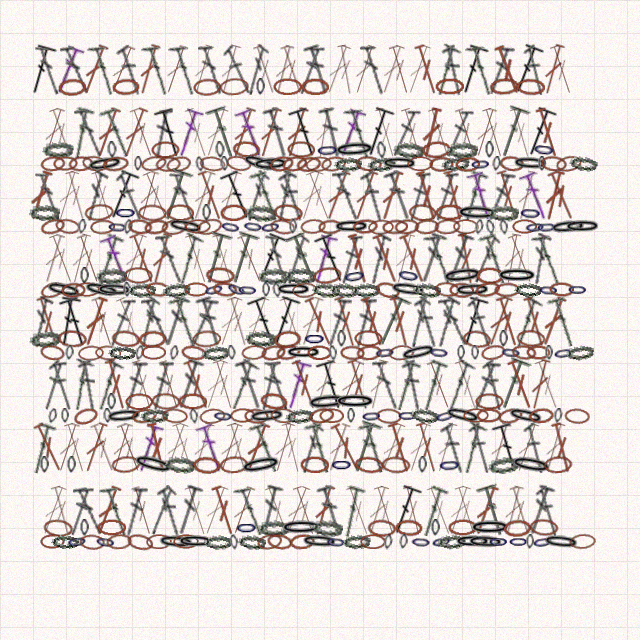chain: (131, 451, 175, 478), (239, 453, 283, 477), (509, 453, 553, 477), (240, 151, 279, 176), (441, 265, 484, 286), (399, 341, 438, 364), (443, 404, 482, 427), (306, 392, 349, 412), (44, 279, 83, 301), (82, 279, 121, 301), (506, 405, 545, 427), (166, 216, 205, 237), (333, 140, 376, 159), (86, 154, 124, 174), (456, 204, 498, 222), (487, 454, 520, 476), (389, 280, 427, 299), (496, 267, 538, 284), (334, 393, 376, 410), (280, 519, 322, 536), (469, 519, 511, 536), (549, 218, 587, 236), (105, 407, 143, 425), (248, 407, 286, 425), (157, 533, 195, 551), (542, 533, 580, 551), (312, 265, 343, 286), (29, 329, 61, 349), (259, 391, 289, 412), (512, 155, 549, 172), (301, 533, 338, 550), (39, 279, 67, 301), (72, 405, 100, 427), (195, 216, 224, 237), (42, 140, 74, 159), (164, 455, 196, 474), (111, 329, 141, 349), (462, 329, 492, 349), (354, 455, 384, 475), (43, 518, 73, 538), (252, 156, 289, 172), (96, 282, 133, 298), (454, 282, 491, 298), (467, 534, 504, 550), (39, 216, 67, 237), (273, 329, 302, 349), (393, 141, 425, 159), (245, 204, 277, 222), (219, 77, 249, 96), (489, 77, 519, 96), (421, 140, 451, 159), (84, 203, 114, 222), (273, 203, 303, 222), (205, 266, 235, 285), (57, 329, 87, 348), (516, 329, 546, 348), (565, 343, 595, 362), (151, 392, 181, 411), (111, 455, 141, 474), (219, 455, 249, 474), (543, 455, 573, 474), (529, 518, 559, 537), (374, 280, 402, 300), (126, 532, 154, 552), (447, 141, 478, 159), (488, 204, 519, 222), (96, 267, 127, 285), (258, 267, 289, 285), (258, 519, 289, 537), (312, 519, 343, 537), (381, 156, 418, 171), (333, 219, 370, 234), (564, 219, 601, 234), (275, 282, 312, 297), (285, 345, 322, 360), (177, 534, 214, 549), (454, 534, 491, 549), (232, 140, 261, 159), (441, 154, 470, 173), (408, 203, 437, 222), (165, 154, 192, 174), (497, 406, 524, 426), (381, 456, 411, 474), (367, 519, 397, 537), (81, 154, 109, 173), (140, 154, 168, 173), (555, 154, 583, 173), (29, 204, 60, 221), (285, 267, 316, 284), (245, 330, 276, 347), (396, 265, 421, 286), (224, 279, 249, 300), (516, 78, 545, 96), (367, 155, 396, 173), (138, 204, 167, 222), (162, 281, 191, 299), (138, 330, 167, 348), (192, 330, 221, 348), (201, 344, 230, 362), (285, 407, 314, 425), (192, 456, 221, 474), (225, 154, 252, 173), (268, 154, 295, 173), (281, 154, 308, 173), (54, 217, 81, 236), (474, 280, 501, 299), (39, 343, 66, 362), (260, 343, 287, 362), (275, 343, 302, 362), (480, 343, 507, 362), (308, 406, 335, 425), (256, 532, 283, 551), (266, 532, 293, 551), (58, 78, 86, 96), (112, 78, 140, 96), (193, 78, 221, 96), (395, 519, 423, 537), (503, 519, 531, 537), (342, 266, 367, 286), (273, 78, 302, 95), (435, 78, 464, 95), (151, 141, 180, 158), (569, 155, 598, 172), (435, 204, 464, 221), (124, 267, 153, 284), (354, 330, 383, 347), (178, 393, 207, 410), (475, 393, 504, 410), (140, 407, 169, 424), (410, 407, 439, 424), (300, 456, 329, 473), (97, 519, 126, 536), (448, 519, 477, 536), (342, 533, 371, 550), (437, 533, 466, 550), (102, 155, 129, 173), (199, 155, 226, 173), (305, 155, 332, 173), (320, 155, 347, 173), (143, 218, 170, 236), (269, 218, 296, 236), (180, 344, 207, 362), (199, 407, 226, 425), (433, 406, 457, 426), (301, 78, 329, 95), (287, 141, 315, 158), (166, 204, 194, 221), (220, 204, 248, 221), (476, 267, 504, 284), (125, 393, 153, 410), (296, 155, 322, 173), (161, 218, 187, 236), (131, 407, 157, 425), (355, 155, 382, 172), (540, 155, 567, 172), (434, 218, 461, 235), (388, 344, 415, 361), (569, 533, 596, 550), (532, 140, 556, 159), (202, 280, 226, 299), (334, 156, 362, 172), (128, 282, 156, 298), (312, 282, 340, 298), (330, 282, 358, 298), (352, 282, 380, 298), (413, 282, 441, 298), (204, 534, 232, 550), (238, 534, 266, 550), (40, 155, 66, 172), (68, 155, 94, 172), (499, 155, 525, 172), (127, 218, 153, 235), (300, 218, 326, 235), (352, 218, 378, 235), (394, 218, 420, 235), (414, 218, 440, 235), (145, 281, 171, 298), (212, 281, 238, 298), (434, 281, 460, 298), (241, 344, 267, 361), (356, 344, 382, 361), (511, 344, 537, 361), (270, 407, 296, 424), (528, 407, 554, 424), (106, 533, 132, 550), (289, 533, 315, 550), (430, 532, 453, 551), (514, 282, 542, 297), (108, 345, 136, 360), (51, 534, 79, 549), (155, 156, 181, 172), (368, 219, 394, 235), (382, 219, 408, 235), (292, 282, 318, 298), (494, 282, 520, 298), (78, 345, 104, 361), (95, 345, 121, 361), (162, 408, 188, 424), (376, 408, 402, 424), (564, 408, 590, 424), (79, 534, 105, 550), (316, 141, 339, 159), (519, 204, 542, 222), (219, 218, 242, 236), (259, 218, 282, 236), (552, 344, 575, 362), (438, 456, 461, 474), (94, 533, 117, 551), (531, 533, 554, 551), (429, 156, 454, 172), (455, 156, 480, 172), (90, 219, 115, 235), (318, 219, 343, 235), (61, 282, 86, 298), (449, 282, 474, 298), (340, 345, 365, 361), (244, 408, 269, 424), (114, 204, 137, 221), (303, 330, 326, 347), (330, 456, 353, 473), (235, 519, 258, 536), (407, 156, 433, 171), (185, 219, 211, 234), (453, 219, 479, 234), (74, 282, 100, 297), (463, 408, 489, 423), (146, 534, 172, 549), (173, 534, 199, 549), (360, 534, 386, 549), (53, 156, 78, 171), (512, 219, 537, 234), (184, 282, 209, 297), (549, 282, 574, 297), (141, 345, 166, 360), (307, 345, 332, 360), (526, 345, 551, 360), (230, 408, 255, 423), (319, 408, 344, 423), (476, 408, 501, 423), (40, 534, 65, 549), (242, 218, 264, 235), (374, 344, 396, 361), (428, 344, 450, 361), (500, 344, 522, 361), (66, 533, 88, 550), (524, 219, 546, 235), (212, 408, 234, 424), (325, 534, 347, 550), (410, 534, 432, 550), (470, 156, 491, 172), (107, 219, 128, 235), (536, 219, 557, 235), (237, 282, 258, 298), (538, 282, 559, 298), (361, 408, 382, 424), (567, 282, 588, 297), (397, 408, 418, 423), (488, 534, 509, 549), (508, 534, 529, 549), (376, 141, 387, 159), (485, 219, 496, 235), (134, 345, 145, 361), (47, 408, 58, 424), (107, 141, 117, 158), (215, 141, 225, 158), (195, 156, 205, 172), (123, 219, 133, 235), (474, 219, 484, 235), (499, 219, 509, 235), (272, 282, 282, 298), (169, 345, 179, 361), (328, 345, 338, 361), (189, 408, 199, 424), (229, 534, 239, 550), (383, 534, 393, 550), (256, 78, 265, 95), (485, 141, 494, 158), (202, 204, 211, 221), (80, 267, 89, 284), (337, 330, 346, 347), (499, 330, 508, 347), (107, 393, 116, 410), (40, 456, 49, 473), (67, 456, 76, 473), (418, 456, 427, 473), (80, 519, 89, 536), (431, 519, 440, 536), (77, 219, 87, 234), (553, 408, 563, 423), (220, 156, 229, 171), (492, 156, 501, 171), (65, 345, 74, 360), (227, 345, 236, 360), (103, 408, 112, 423), (399, 534, 408, 549), (134, 156, 142, 171), (538, 156, 546, 171), (289, 219, 297, 234), (123, 282, 131, 297), (262, 282, 270, 297), (457, 345, 465, 360), (471, 345, 479, 360), (545, 345, 553, 360), (61, 408, 69, 423), (347, 408, 355, 423), (526, 534, 534, 549)
double: (372, 294, 412, 349), (285, 231, 324, 286), (103, 168, 141, 223), (219, 168, 257, 223), (251, 231, 289, 286), (313, 231, 351, 286), (494, 357, 532, 412), (508, 42, 545, 97), (205, 105, 242, 160), (494, 105, 531, 160), (521, 105, 558, 160), (157, 168, 194, 223), (246, 294, 283, 349), (327, 421, 365, 474), (224, 358, 261, 412), (287, 105, 323, 160), (360, 105, 396, 160), (266, 294, 302, 349), (347, 420, 383, 475), (387, 483, 423, 538), (30, 421, 67, 474), (441, 358, 477, 412), (225, 231, 260, 286), (476, 483, 511, 538), (301, 295, 337, 348), (455, 43, 490, 97), (98, 106, 133, 160), (90, 232, 125, 286), (58, 295, 93, 349), (509, 295, 544, 349), (247, 421, 282, 475), (233, 484, 268, 538), (199, 231, 233, 286), (139, 169, 174, 222), (544, 169, 579, 222), (233, 232, 268, 285), (112, 295, 147, 348), (24, 43, 58, 97), (153, 106, 187, 160), (248, 169, 282, 223), (531, 232, 565, 286), (456, 295, 490, 349), (91, 358, 125, 412), (315, 358, 349, 412), (388, 358, 422, 412), (415, 358, 449, 412), (491, 421, 525, 475), (415, 484, 449, 538), (51, 43, 85, 96), (105, 43, 139, 96), (491, 43, 525, 96), (302, 169, 336, 222), (518, 169, 552, 222), (45, 232, 79, 285), (99, 232, 133, 285), (369, 232, 403, 285), (396, 232, 430, 285), (504, 232, 538, 285), (180, 358, 214, 411), (334, 358, 368, 411), (86, 421, 120, 474), (375, 421, 409, 474), (261, 484, 295, 537), (280, 484, 314, 537), (423, 484, 457, 537), (456, 169, 489, 223), (172, 232, 205, 286), (423, 232, 456, 286), (477, 232, 510, 286), (167, 295, 200, 349), (99, 484, 132, 538), (78, 43, 111, 96), (321, 43, 354, 96), (402, 43, 435, 96), (45, 106, 78, 159), (91, 106, 124, 159), (118, 106, 151, 159), (126, 106, 159, 159), (234, 106, 267, 159), (334, 106, 367, 159), (194, 169, 227, 222), (321, 169, 354, 222), (383, 169, 416, 222), (118, 232, 151, 285), (126, 232, 159, 285), (483, 295, 516, 348), (537, 295, 570, 348), (234, 358, 267, 411), (288, 358, 321, 411), (423, 358, 456, 411), (504, 358, 537, 411), (531, 358, 564, 411), (113, 421, 146, 474), (159, 421, 192, 474), (240, 421, 273, 474), (37, 484, 70, 537), (91, 484, 124, 537), (199, 484, 232, 537), (342, 484, 375, 537), (221, 44, 255, 95), (87, 43, 119, 97), (141, 43, 173, 97), (168, 43, 200, 97), (430, 43, 462, 97), (465, 43, 497, 97), (343, 106, 375, 160), (546, 295, 578, 349), (25, 421, 57, 475), (160, 43, 192, 96), (249, 43, 281, 96), (276, 43, 308, 96), (376, 43, 408, 96), (546, 43, 578, 96), (181, 106, 213, 159), (200, 106, 232, 159), (227, 106, 259, 159), (424, 106, 456, 159), (187, 169, 219, 222), (295, 169, 327, 222), (349, 169, 381, 222), (73, 232, 105, 285), (181, 232, 213, 285), (416, 232, 448, 285), (443, 232, 475, 285), (79, 295, 111, 348), (87, 295, 119, 348), (214, 295, 246, 348), (241, 295, 273, 348), (276, 295, 308, 348), (295, 295, 327, 348), (173, 358, 205, 411), (200, 358, 232, 411), (451, 358, 483, 411), (52, 421, 84, 474), (79, 421, 111, 474), (168, 421, 200, 474), (195, 421, 227, 474), (214, 421, 246, 474), (322, 421, 354, 474), (403, 421, 435, 474), (511, 421, 543, 474), (227, 484, 259, 537), (289, 484, 321, 537), (443, 484, 475, 537), (470, 484, 502, 537), (524, 484, 556, 537), (469, 233, 502, 284), (303, 421, 334, 475), (357, 421, 388, 475), (457, 421, 488, 475), (484, 170, 516, 222), (187, 296, 219, 348), (303, 43, 334, 96), (349, 43, 380, 96), (411, 43, 442, 96), (38, 106, 69, 159), (173, 106, 204, 159), (254, 106, 285, 159), (262, 106, 293, 159), (281, 106, 312, 159), (397, 106, 428, 159), (451, 106, 482, 159), (470, 106, 501, 159), (478, 106, 509, 159), (532, 106, 563, 159), (25, 169, 56, 222), (52, 169, 83, 222), (87, 169, 118, 222), (214, 169, 245, 222), (376, 169, 407, 222), (38, 232, 69, 285), (208, 232, 239, 285), (33, 295, 64, 348), (160, 295, 191, 348), (195, 295, 226, 348), (357, 295, 388, 348), (492, 295, 523, 348), (60, 421, 91, 474), (106, 421, 137, 474), (133, 421, 164, 474), (187, 421, 218, 474), (384, 421, 415, 474), (484, 421, 515, 474), (127, 484, 158, 537), (173, 484, 204, 537), (181, 484, 212, 537), (208, 484, 239, 537), (316, 484, 347, 537), (362, 484, 393, 537), (370, 484, 401, 537), (451, 484, 482, 537), (505, 484, 536, 537), (389, 107, 421, 158), (114, 170, 146, 221), (146, 485, 178, 536), (336, 484, 366, 538), (60, 44, 91, 96), (443, 107, 474, 159), (141, 296, 172, 348), (438, 296, 469, 348), (470, 359, 501, 411), (73, 485, 104, 537), (134, 43, 164, 96), (188, 43, 218, 96), (385, 43, 415, 96), (371, 106, 401, 159), (506, 106, 536, 159), (61, 169, 91, 222), (412, 169, 442, 222), (466, 169, 496, 222), (493, 169, 523, 222), (223, 295, 253, 348), (331, 295, 361, 348), (520, 295, 550, 348), (101, 358, 131, 411), (128, 358, 158, 411), (155, 358, 185, 411), (209, 358, 239, 411), (282, 358, 312, 411), (309, 358, 339, 411), (344, 358, 374, 411), (223, 421, 253, 474), (269, 421, 299, 474), (412, 421, 442, 474), (431, 421, 461, 474), (539, 421, 569, 474), (115, 44, 145, 96), (485, 44, 515, 96), (74, 107, 104, 159), (277, 170, 307, 222), (431, 296, 461, 348), (215, 43, 244, 96), (269, 43, 298, 96), (539, 43, 568, 96), (66, 106, 95, 159), (134, 169, 163, 222), (512, 169, 541, 222), (66, 232, 95, 285), (147, 232, 176, 285), (309, 232, 338, 285), (344, 232, 373, 285), (390, 232, 419, 285), (47, 484, 76, 537), (309, 484, 338, 537), (296, 44, 325, 96), (80, 170, 109, 222), (169, 170, 198, 222), (242, 170, 271, 222), (155, 233, 184, 285), (282, 233, 311, 285), (107, 296, 136, 348), (466, 296, 495, 348), (47, 359, 76, 411), (439, 422, 468, 474), (318, 106, 346, 159), (440, 169, 468, 222), (540, 169, 568, 222), (54, 295, 82, 348), (386, 295, 414, 348), (67, 358, 95, 411), (364, 358, 392, 411), (526, 358, 554, 411), (143, 421, 171, 474), (278, 421, 306, 474), (548, 421, 576, 474), (256, 484, 284, 537), (399, 484, 427, 537), (499, 484, 527, 537), (35, 170, 63, 222), (332, 170, 360, 222), (359, 170, 387, 222), (364, 233, 392, 285), (324, 296, 352, 348), (413, 296, 441, 348), (372, 359, 400, 411), (297, 422, 325, 474), (156, 485, 184, 537), (534, 485, 562, 537), (418, 106, 445, 159), (35, 44, 62, 96), (243, 44, 270, 96), (432, 170, 459, 222), (27, 296, 54, 348), (121, 359, 148, 411), (264, 359, 291, 411), (467, 422, 494, 474), (67, 485, 94, 537), (198, 44, 224, 96), (360, 44, 386, 96), (522, 44, 548, 96), (271, 170, 297, 222), (406, 296, 432, 348), (41, 359, 67, 411), (522, 422, 548, 474), (122, 485, 148, 537), (333, 43, 358, 96), (454, 232, 479, 285), (500, 232, 525, 285), (441, 44, 466, 96), (406, 170, 431, 222), (265, 233, 290, 285), (338, 233, 363, 285), (527, 233, 552, 285), (136, 296, 161, 348), (352, 296, 377, 348), (149, 359, 174, 411), (481, 359, 506, 411), (312, 106, 336, 159), (401, 359, 425, 411), (77, 359, 100, 411), (258, 359, 281, 411), (151, 107, 173, 159)
